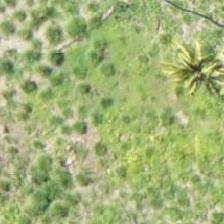coconut_tree: (149, 24, 223, 114)
